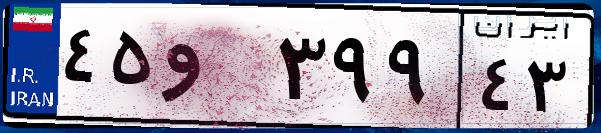3: (270, 28, 330, 110), (525, 38, 570, 115)
4: (57, 26, 110, 100), (475, 38, 525, 113)
5: (110, 28, 158, 98)
9: (385, 28, 445, 110), (330, 28, 385, 110)
و: (158, 20, 270, 120)
